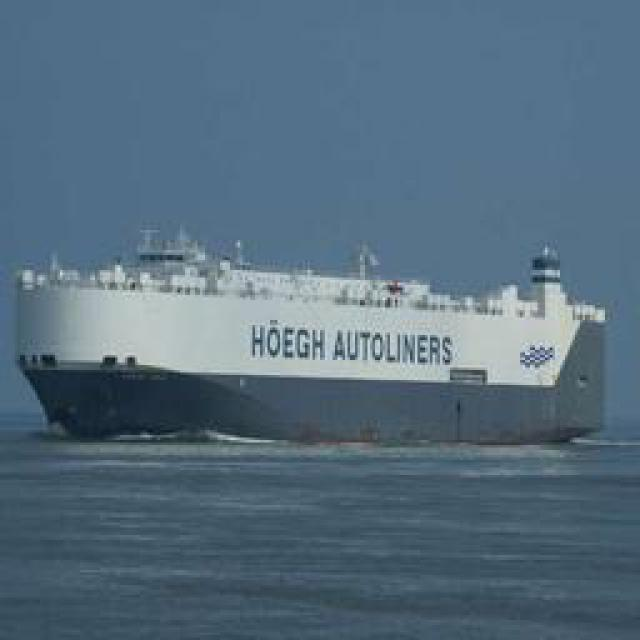Ship: (26, 201, 601, 439)
